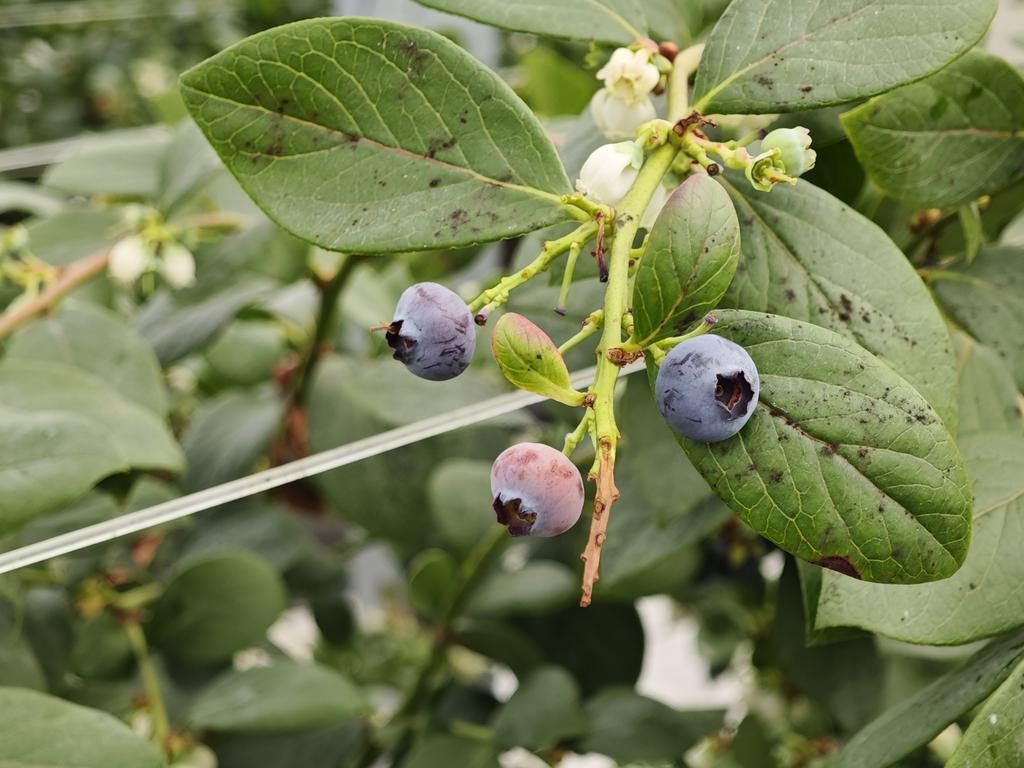RipeBlueBerry: (651, 333, 766, 444), (382, 279, 482, 384)
Semi-RipeBlueBerry: (485, 437, 587, 542)
